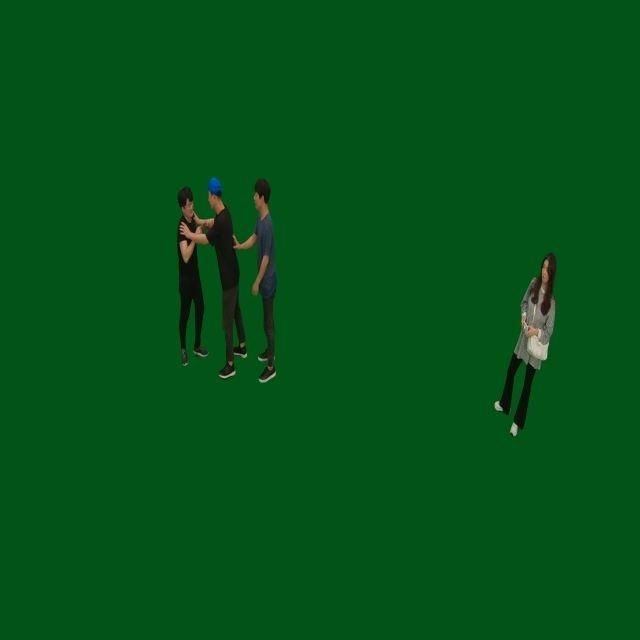fight: (174, 173, 281, 385)
non-fight: (497, 252, 557, 436)
